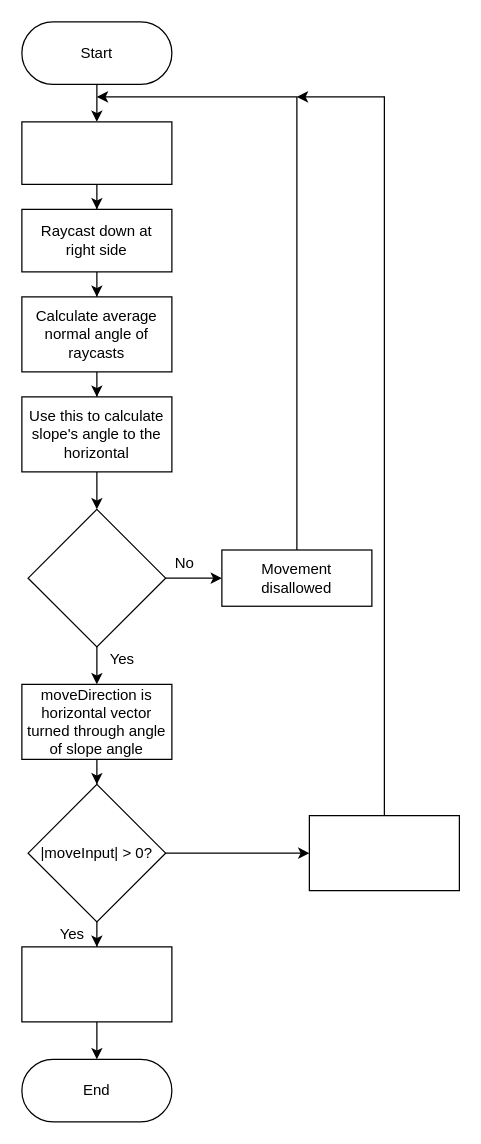
This 481x1144 diagram has some shape labels left out. The box of each missing label's shape, as (x1, y1, x2, y2) in pixels:
Player falls down slope: (308, 814, 459, 891)
Raycast down at left side: (21, 121, 172, 184)
Slope angle < max slope angle?: (27, 508, 166, 647)
Velocity is moveInput * moveDir.normalised: (21, 946, 172, 1022)
